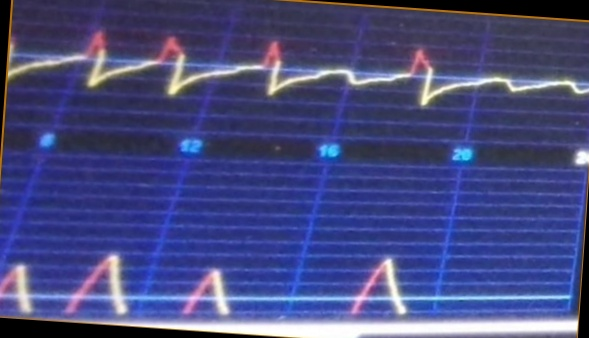Ineffective_effort Flow: (15, 23, 587, 122)
Ineffective_effort Volume: (1, 222, 454, 318)
